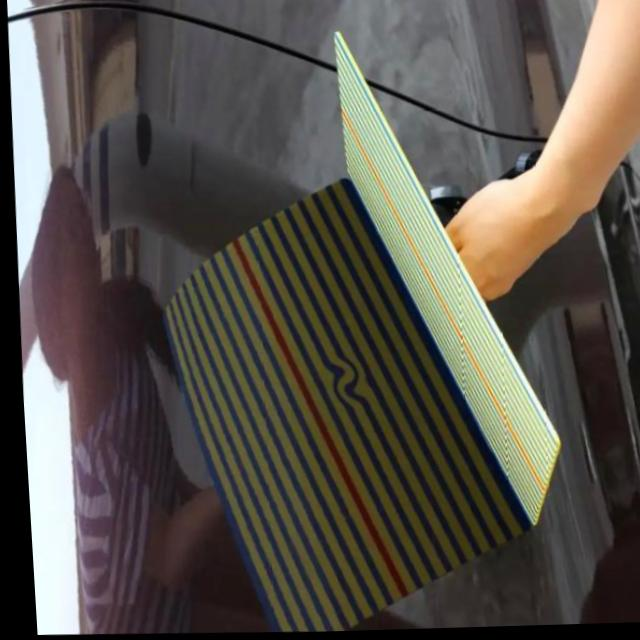PDR-Dent: (312, 349, 369, 417)
